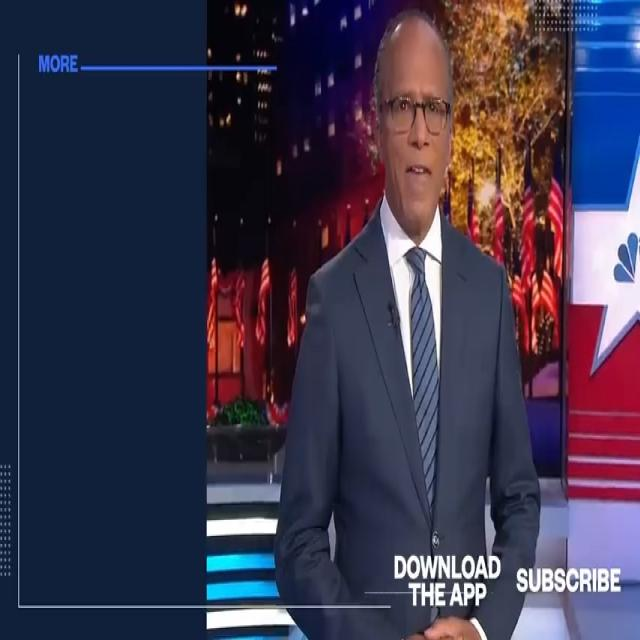non-fight: (264, 0, 558, 640)
